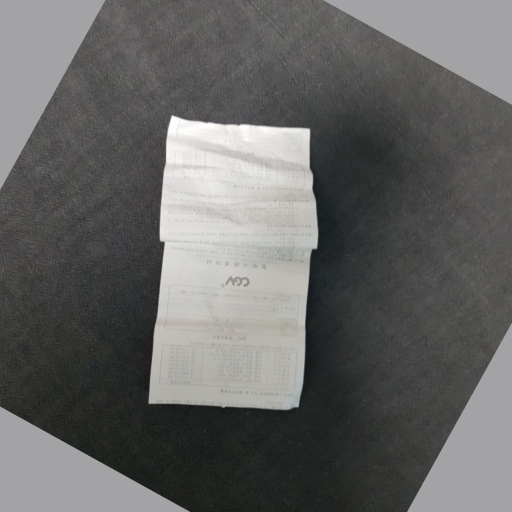Paper_3: (152, 100, 326, 432)
